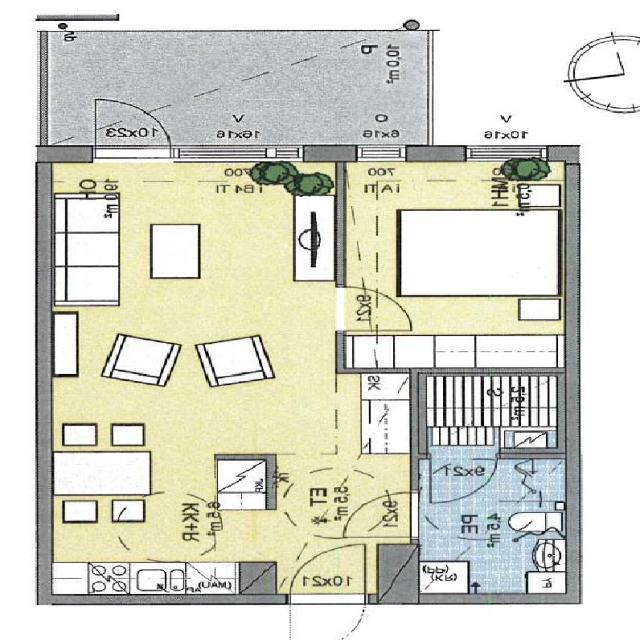door: (96, 95, 170, 161), (290, 542, 366, 604), (430, 448, 497, 503), (337, 286, 411, 331), (345, 493, 419, 537)
